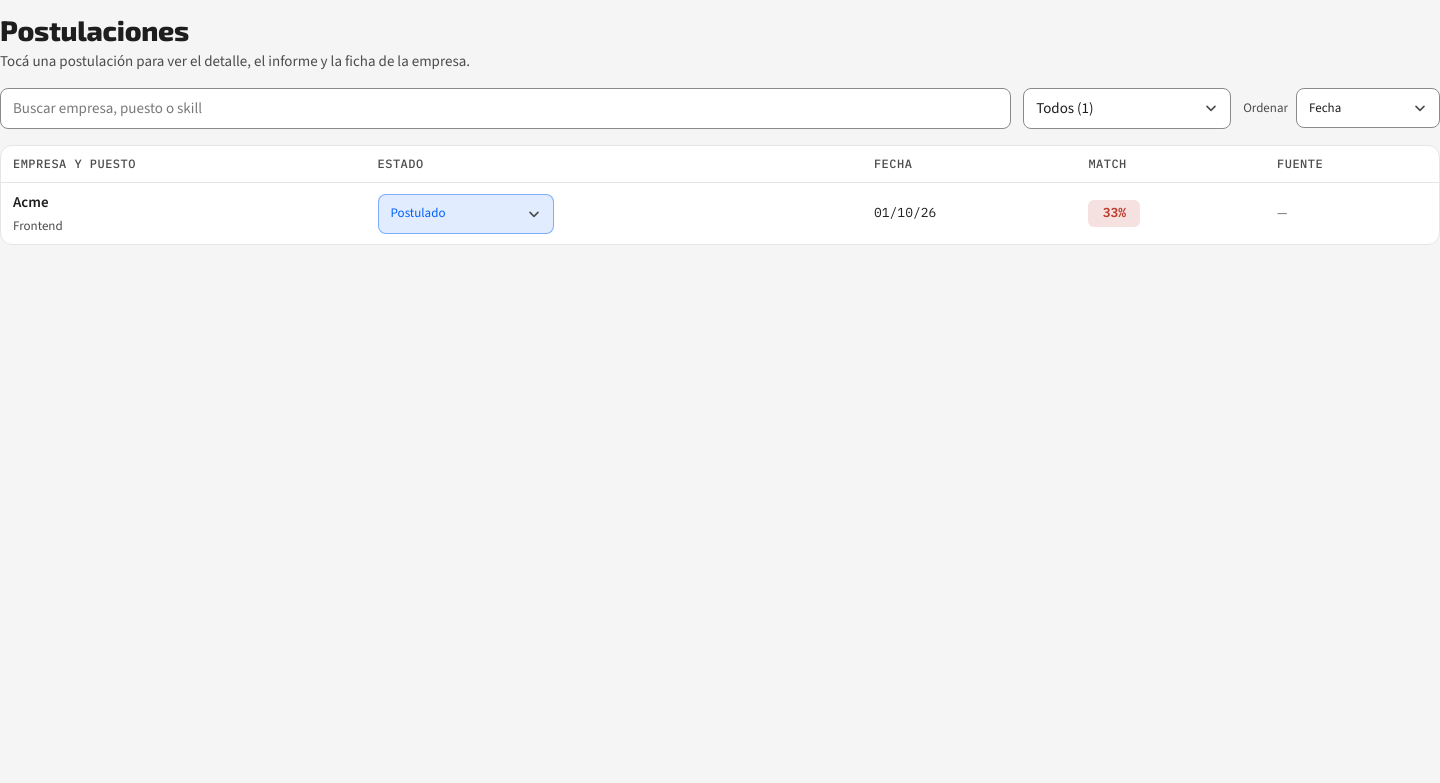
Test: ApplicationsTab › detail drawer › tracks the pre-interview checklist
The image size is (1440, 783).
Click the text "Acme" at (31, 202), box [13,192,49,212]
(page scrolled)
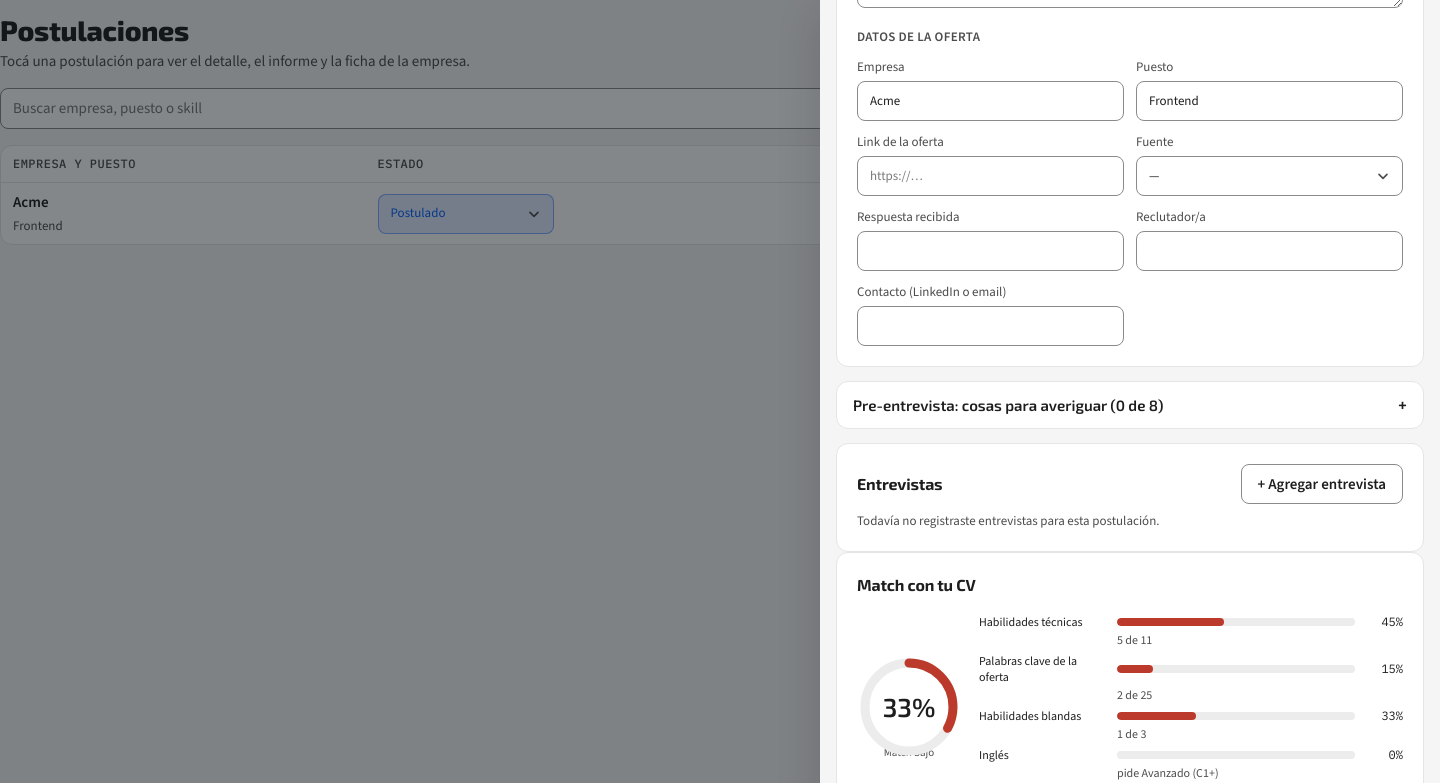
Click the heading "Pre-entrevista: cosas para averiguar (0 de 8)" at (1008, 405), box [853,396,1163,414]
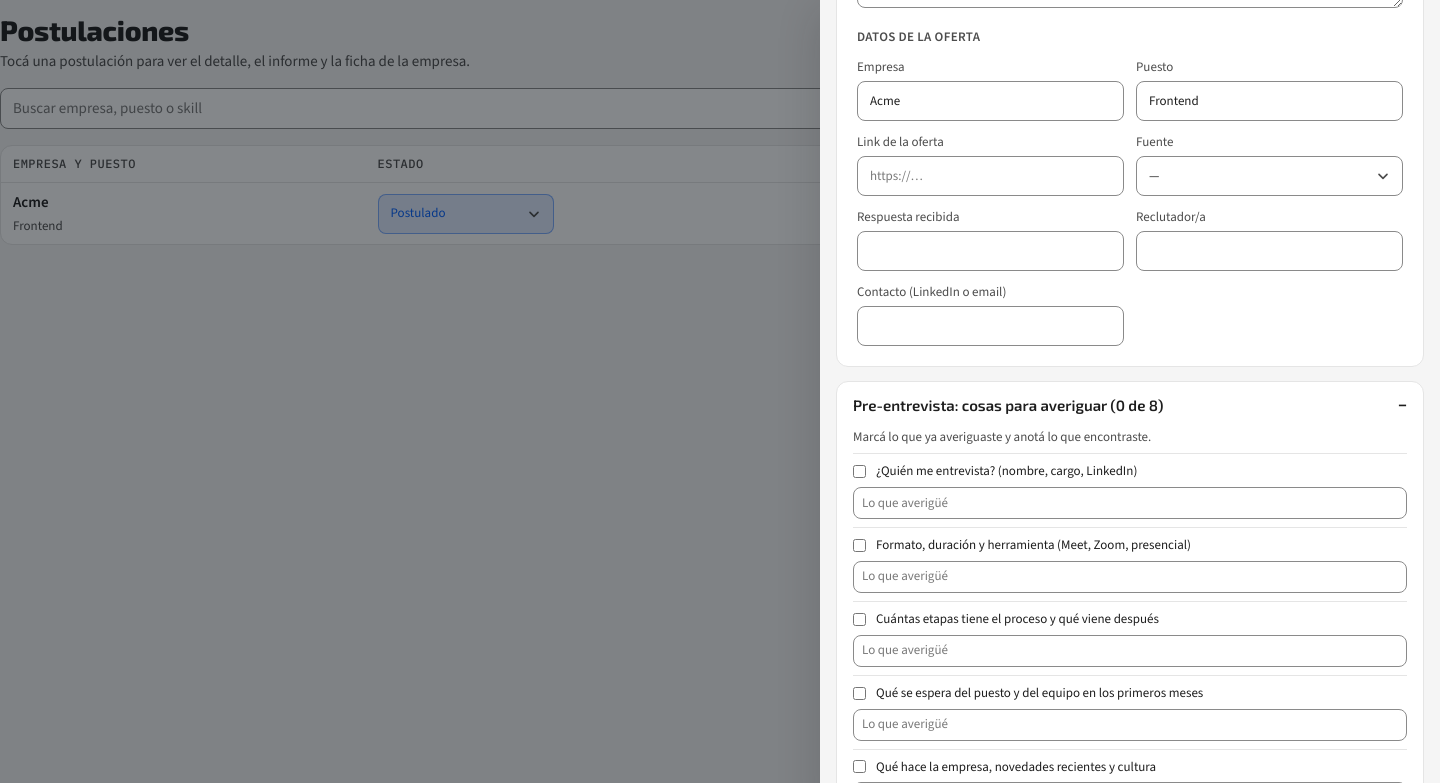
Click the checkbox named "Averiguado: ¿Quién me entrevista? (nombre, cargo, LinkedIn)" at (860, 472), box [853,465,866,478]
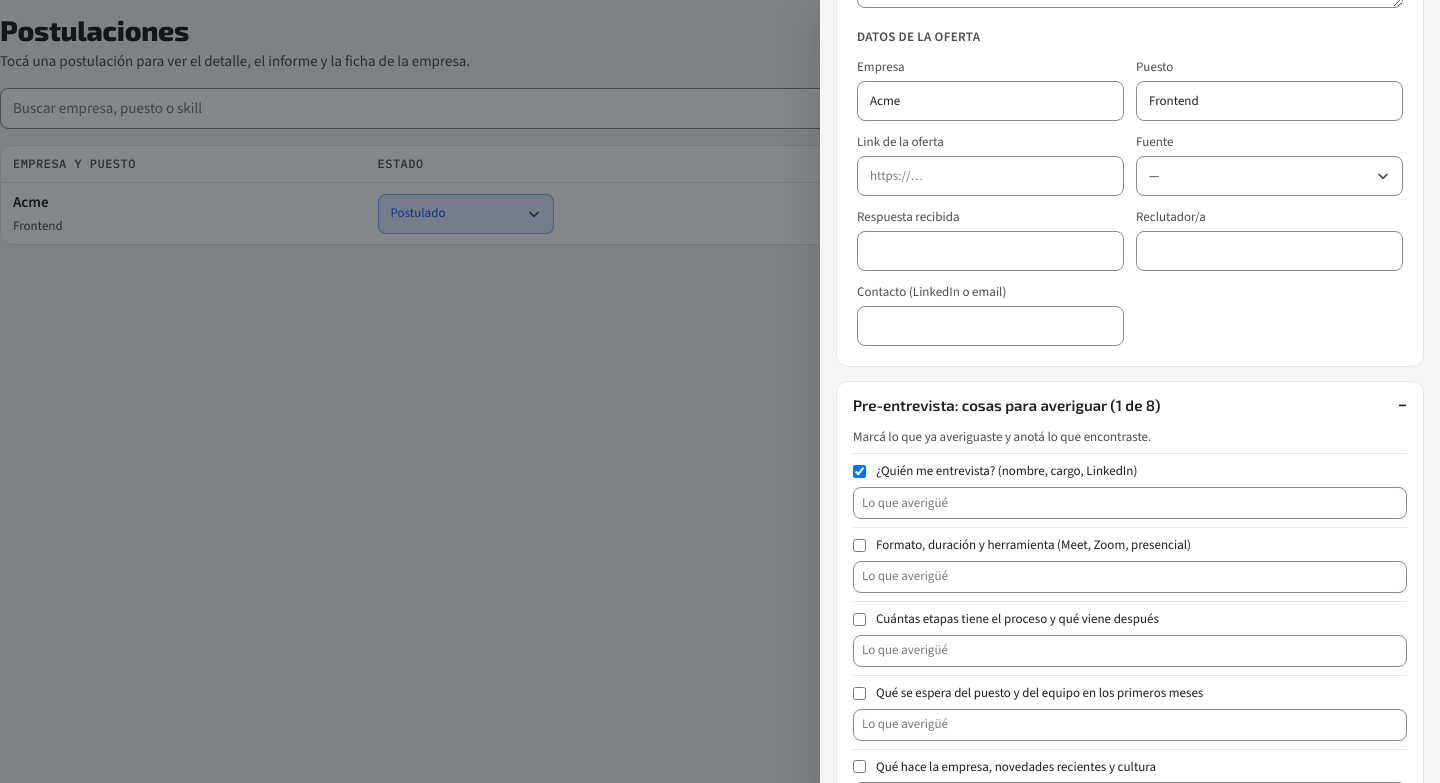
Expected: the heading "Pre-entrevista: cosas para averiguar (1 de 8)" is shown, [853,396,1160,414]
